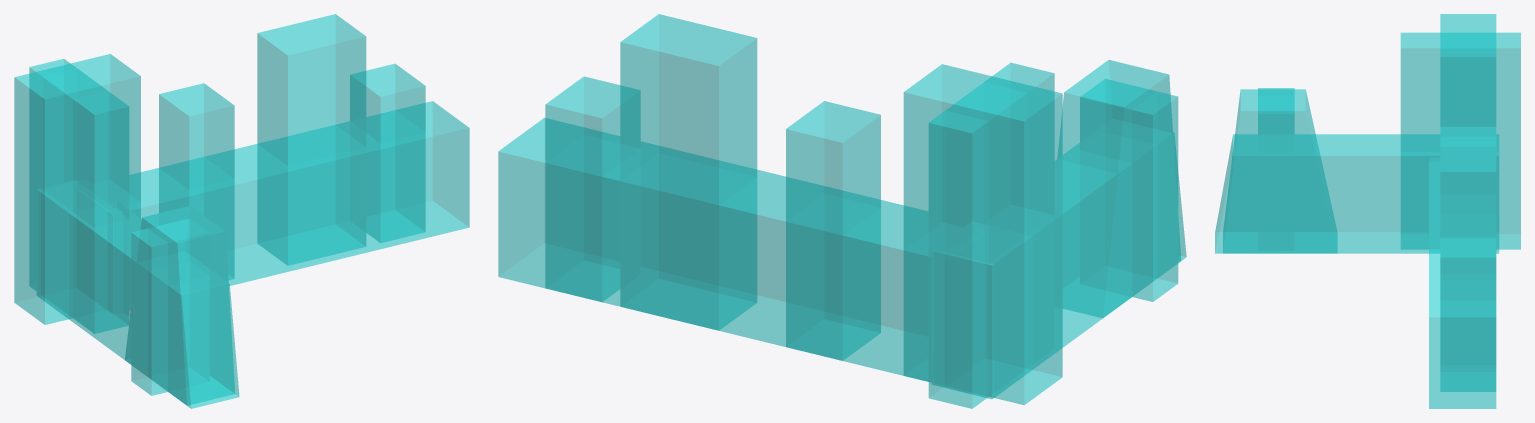
The model's file is SM_Env_Ruin_01_Collision_01.fbx.
3 views of the same model, side by side, from view 1: azimuth 30°, elevation 25°; view 2: azimuth 150°, elevation 25°; view 3: azimuth 270°, elevation 25° (orthographic). The views are drawn at different scales.
Parts seen in each view (by area): view 1: SM_Env_Ruin_01_Collision_01; view 2: SM_Env_Ruin_01_Collision_01; view 3: SM_Env_Ruin_01_Collision_01.
Part boxes in pixels (x1=…): SM_Env_Ruin_01_Collision_01: x1=14, y1=14, x2=469, y2=408; SM_Env_Ruin_01_Collision_01: x1=498, y1=14, x2=1186, y2=408; SM_Env_Ruin_01_Collision_01: x1=1215, y1=14, x2=1520, y2=408.
Bounding box in the file's own units: 401 × 206 × 276.
